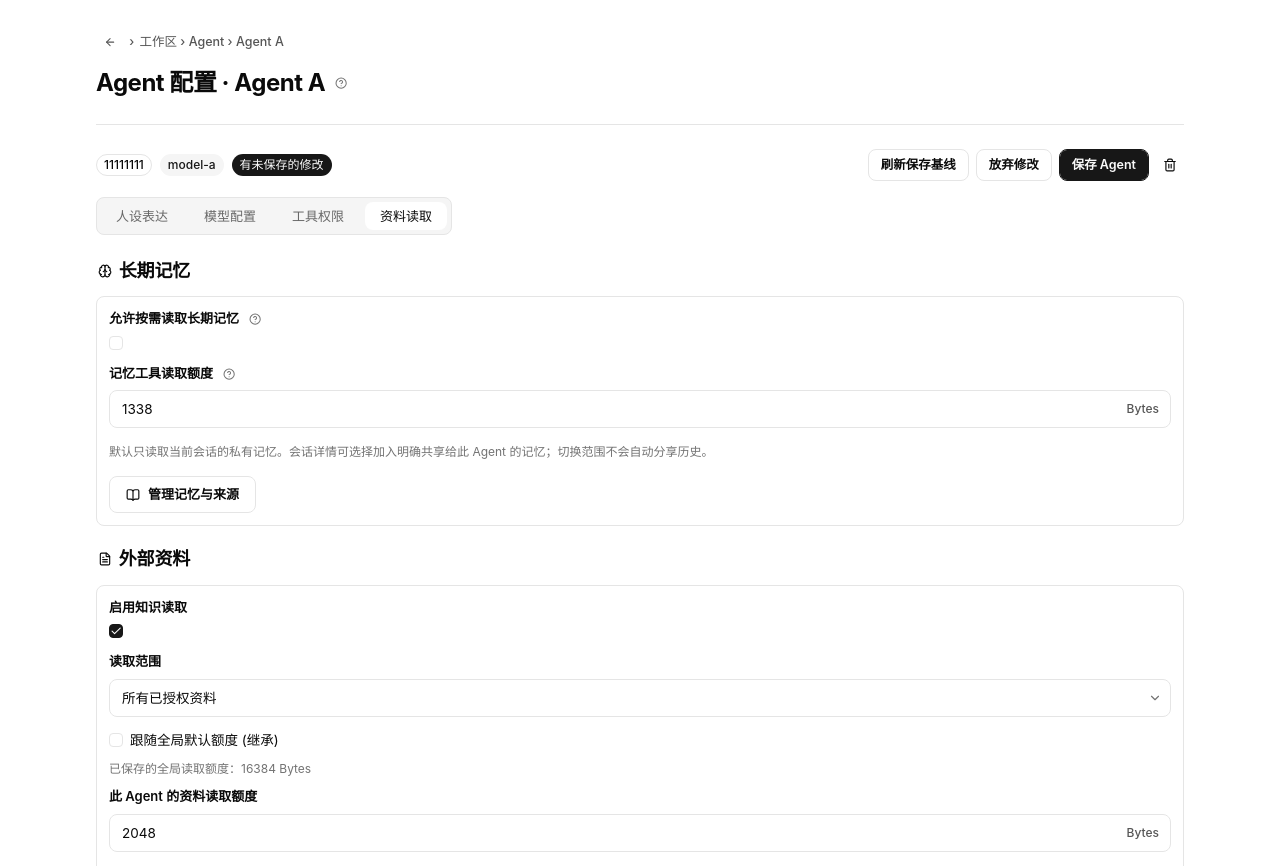
Test: assistant workspace canonical host & resource rules regressions › returns from reading settings to Agent cards without saving or dropping the current draft
What coordinates should you click on to do the following:
click the button named "所有 Agent"
I would click on:
 (110, 42)
Its box is x1=96 y1=28 x2=124 y2=56.
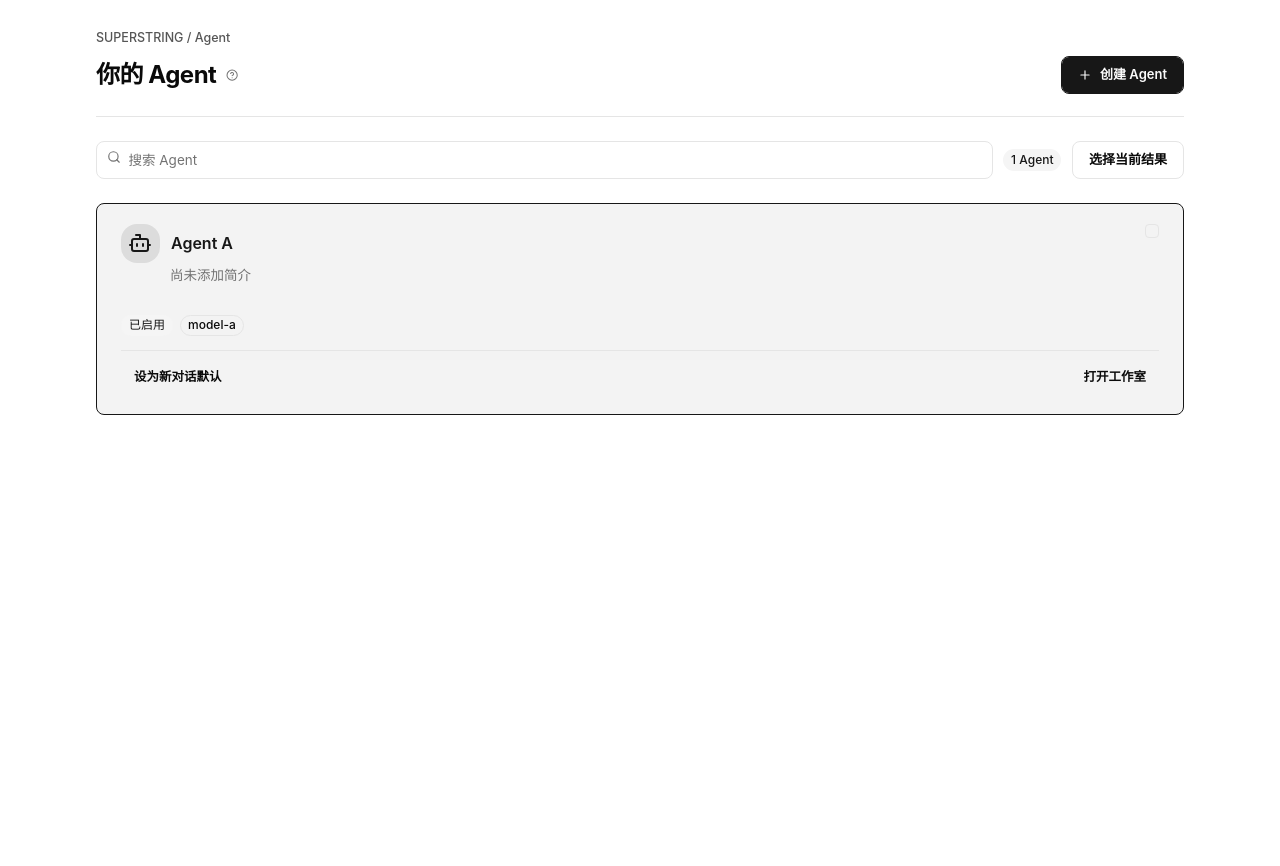
Expected: the heading "你的 Agent" is shown, x1=96 y1=61 x2=216 y2=89
What coordinates should you click on to do the following:
click the button "打开工作室"
I would click on:
 (1115, 378)
Its box is x1=1070 y1=362 x2=1159 y2=394.
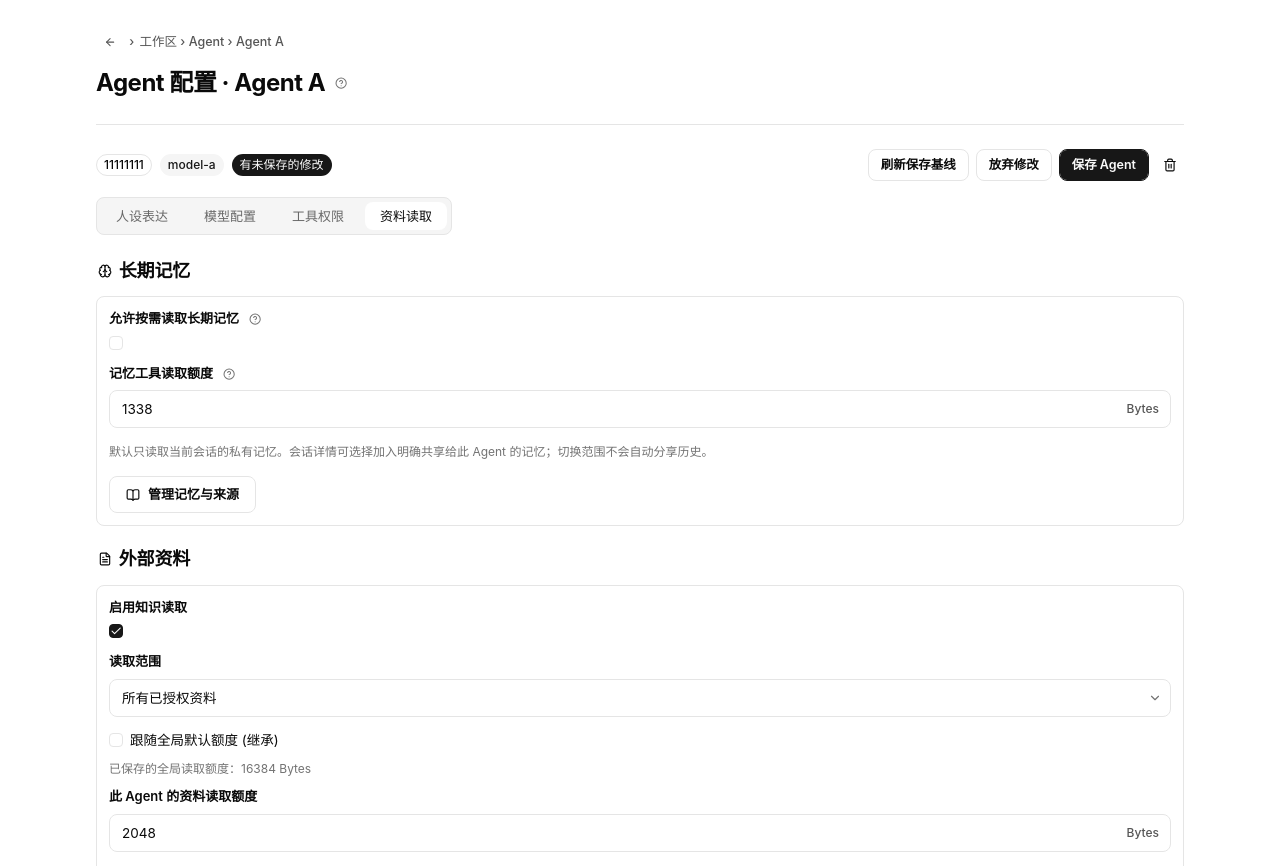
Expected: the button named "所有 Agent" is shown, x1=96 y1=28 x2=124 y2=56
